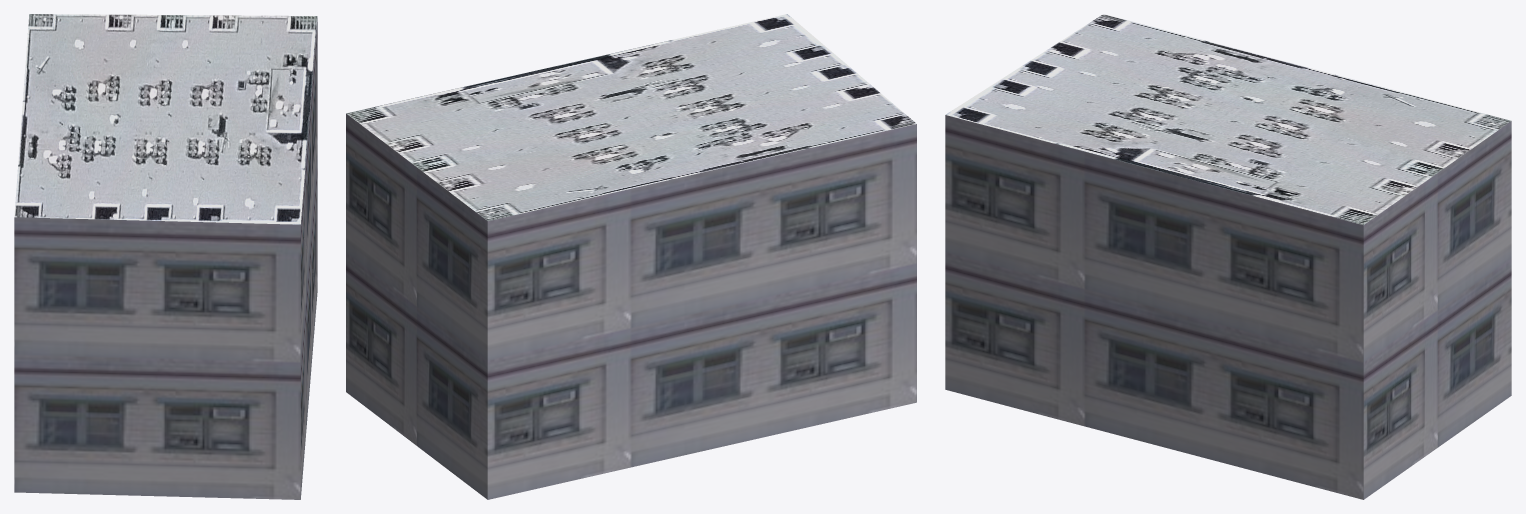
File: ResTex__1067.fbx
3 views of the same model, side by side, from view 1: azimuth 30°, elevation 25°; view 2: azimuth 150°, elevation 25°; view 3: azimuth 270°, elevation 25° (orthographic).
Visible parts, largest first — view 1: CityEngineMaterial_1_m, CityEngineMaterial_2_m; view 2: CityEngineMaterial_1_m, CityEngineMaterial_2_m; view 3: CityEngineMaterial_1_m, CityEngineMaterial_2_m.
Part boxes in pixels (<box>): CityEngineMaterial_1_m: <box>14,18,317,499</box>; CityEngineMaterial_2_m: <box>14,14,317,224</box>; CityEngineMaterial_1_m: <box>346,113,916,499</box>; CityEngineMaterial_2_m: <box>346,14,916,220</box>; CityEngineMaterial_1_m: <box>945,115,1511,499</box>; CityEngineMaterial_2_m: <box>945,14,1511,224</box>.
Size of the model in its own units: 9.89 by 6 by 11.21.
Materials: 2 (2 with a texture image).
